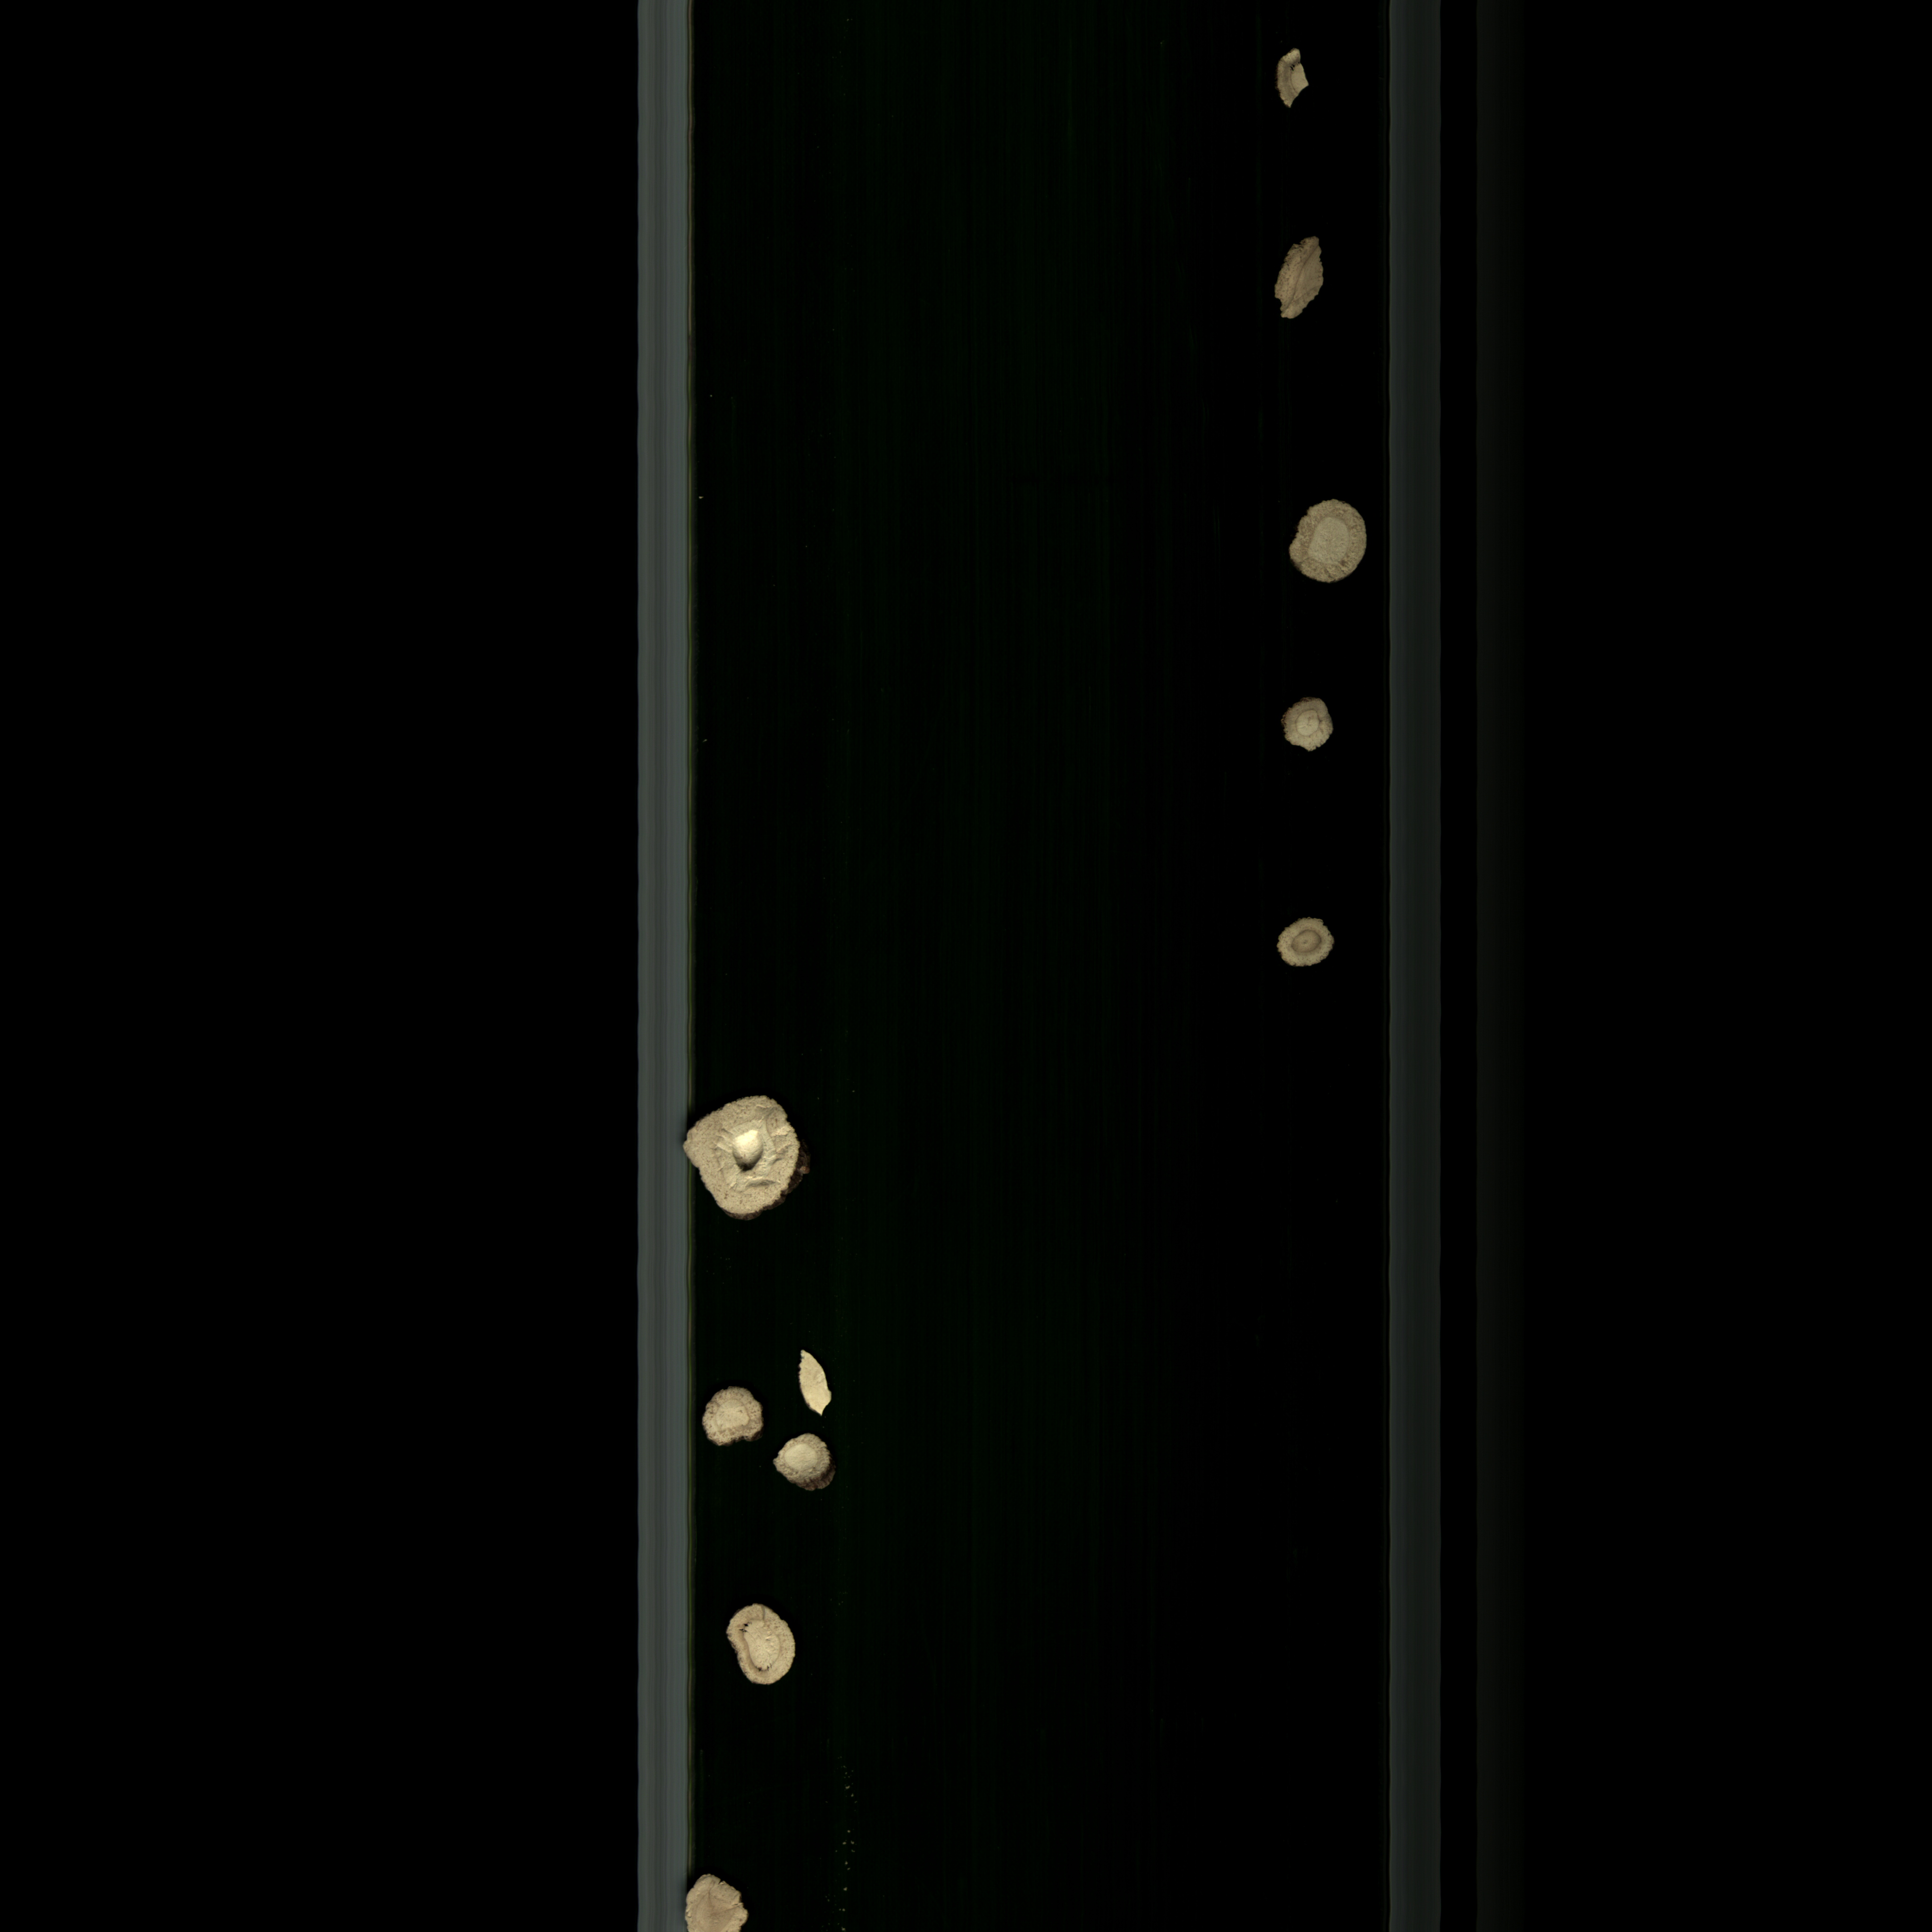bark: (768, 1424, 844, 1511)
debris: (1260, 42, 1327, 131), (784, 1343, 844, 1424)
distortion: (672, 1861, 770, 1932), (695, 1380, 768, 1453)
hole: (667, 1077, 830, 1242), (709, 1596, 801, 1716)
moldy: (1270, 225, 1332, 331), (1260, 908, 1346, 977)
